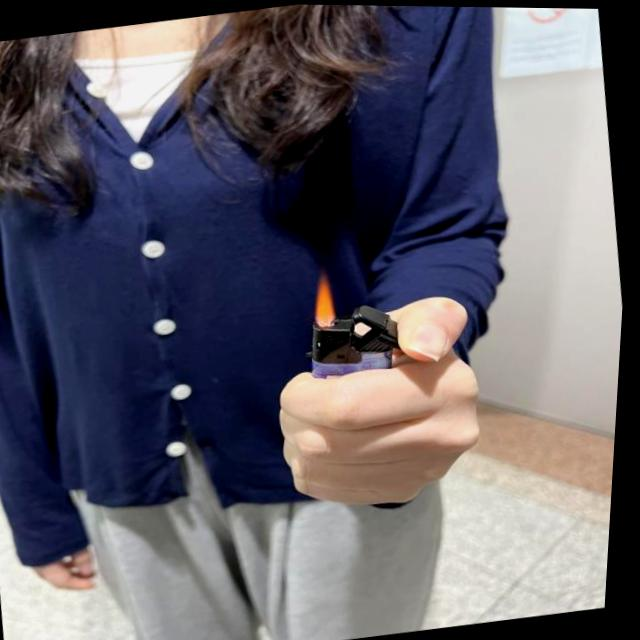Fire: (309, 272, 346, 331)
